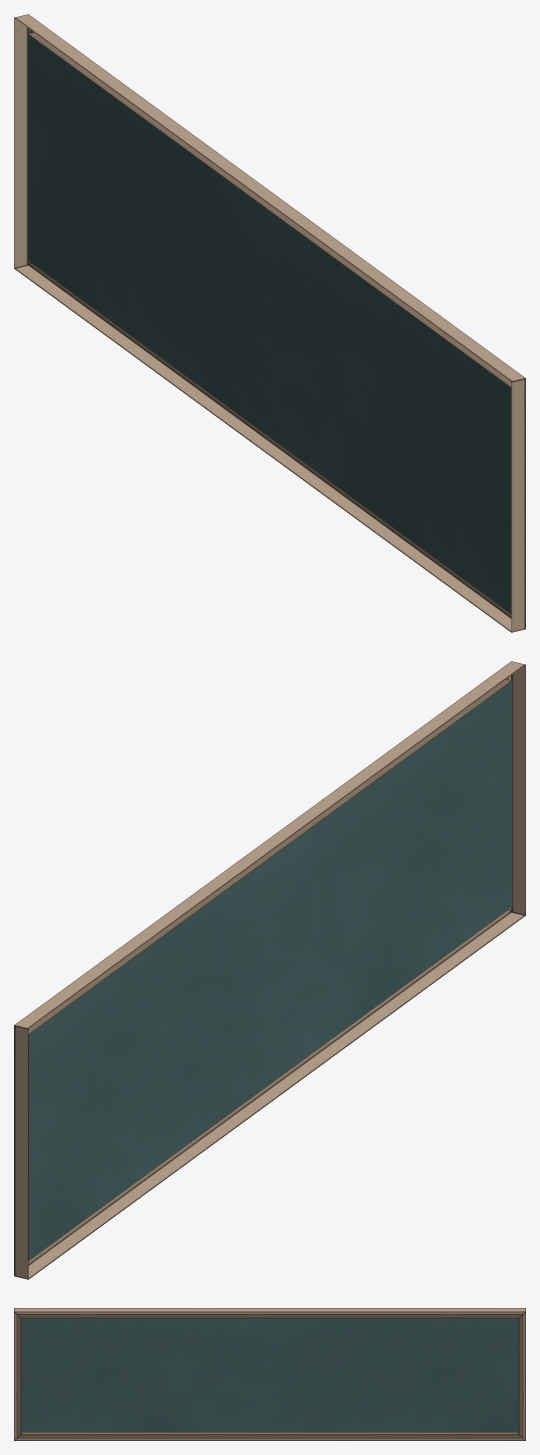
File: blackboard.fbx
3 views of the same model, one above another, from view 1: azimuth 30°, elevation 25°; view 2: azimuth 150°, elevation 25°; view 3: azimuth 270°, elevation 25° (orthographic). The views are drawn at different scales.
Parts seen in each view (by area): view 1: polySurface178; view 2: polySurface178; view 3: polySurface178.
Part boxes in pixels (<box>): polySurface178: <box>14,14,525,632</box>; polySurface178: <box>14,661,525,1279</box>; polySurface178: <box>14,1308,525,1440</box>.
Bounding box in the file's own units: 0.1195 × 1.97 × 7.07.
